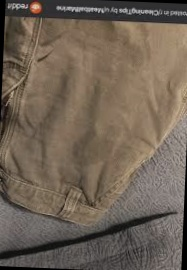oil: (65, 123, 102, 169)
